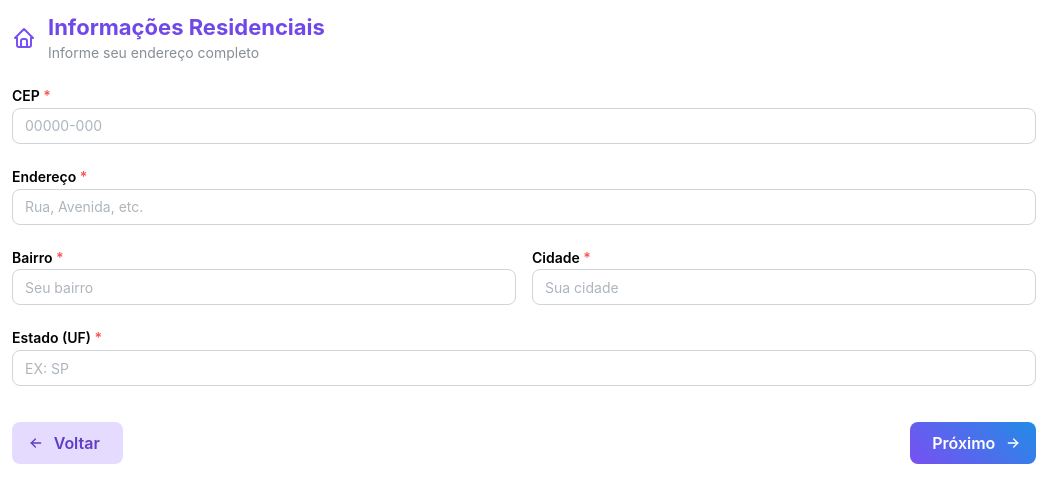
Scenario: Step2ResidentialInfo › preenche endereço automaticamente quando lookup retorna CEP válido
Type "01001000" into the field labelled "CEP *" at (524, 126), box [12,108,1036,144]
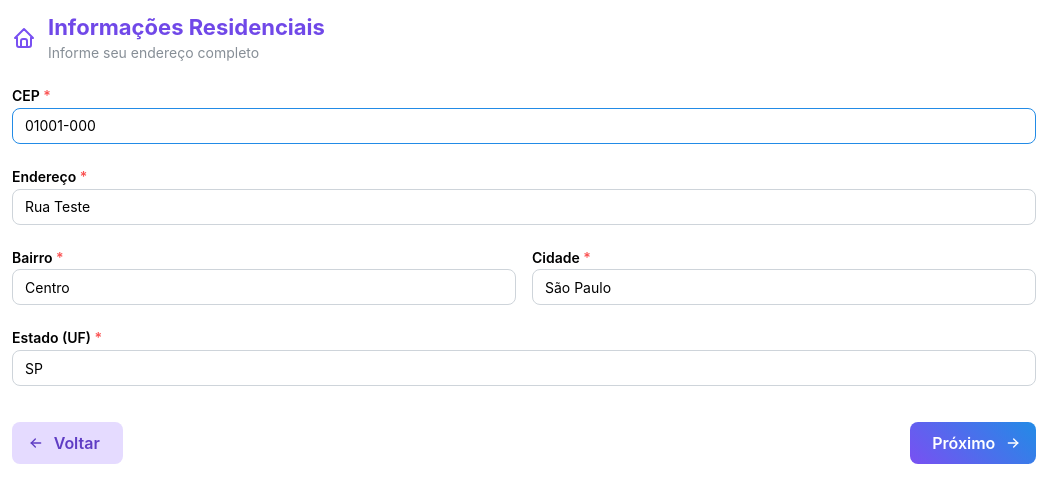
expect the field labelled "Endereço *" holds "Rua Teste": met, box [12,189,1036,225]
expect the field labelled "Bairro *" holds "Centro": met, box [12,270,516,306]
expect the field labelled "Cidade *" holds "São Paulo": met, box [532,270,1036,306]
